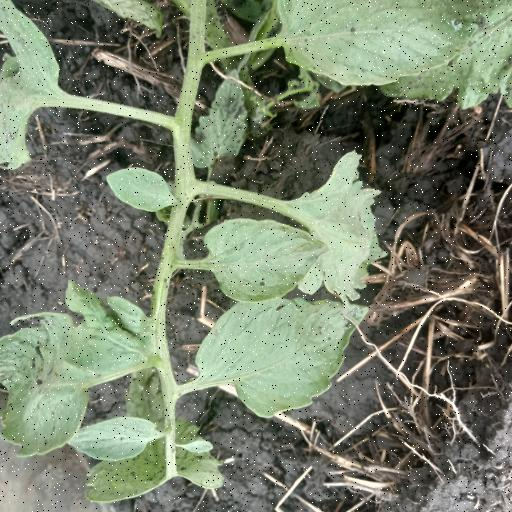Tomato_Mildiou: (194, 288, 360, 420)
